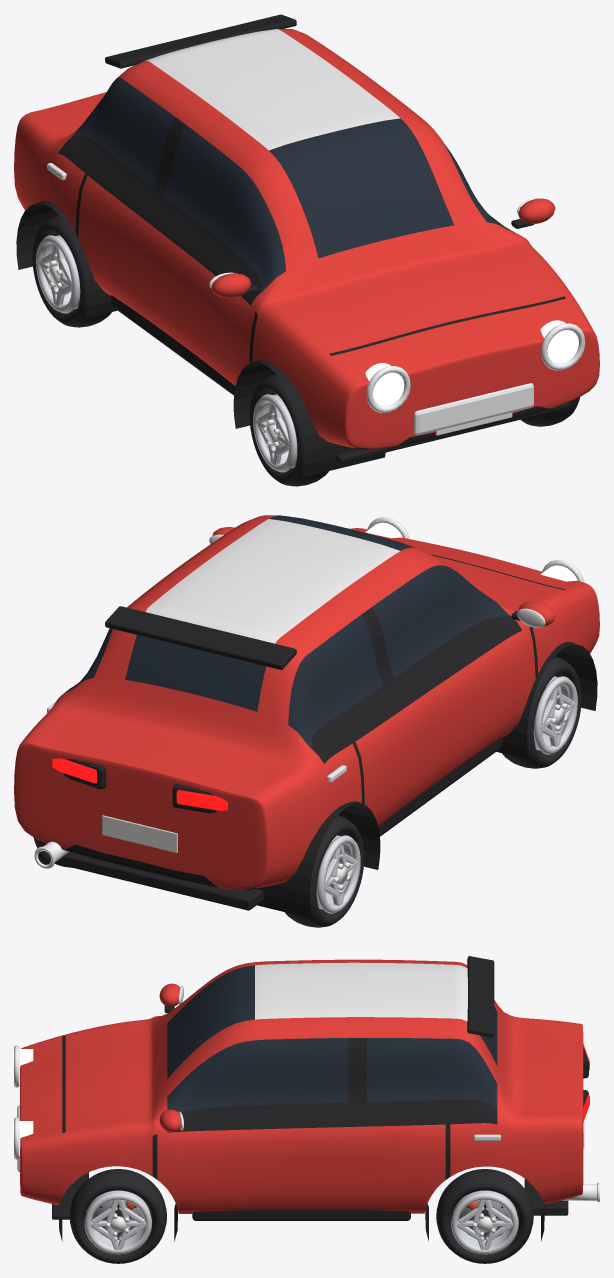
Rendered from pixie_mid.glb.
3 views of the same model, one above another, from view 1: azimuth 30°, elevation 25°; view 2: azimuth 150°, elevation 25°; view 3: azimuth 270°, elevation 25° (orthographic). The views are drawn at different scales.
Parts seen in each view (by area): view 1: body, wheel_rr, wheel_fr, wheel_fl; view 2: body, wheel_fr, wheel_rr; view 3: body, wheel_fl, wheel_rl.
Boxes of the visible parts, left/top/right/bottom form: body: left=14, top=14, right=599, bottom=477; wheel_rr: left=32, top=215, right=111, bottom=327; wheel_fr: left=249, top=374, right=328, bottom=486; wheel_fl: left=520, top=397, right=579, bottom=426; body: left=14, top=515, right=599, bottom=918; wheel_fr: left=502, top=656, right=581, bottom=768; wheel_rr: left=285, top=815, right=364, bottom=927; body: left=14, top=956, right=599, bottom=1241; wheel_fl: left=69, top=1169, right=166, bottom=1263; wheel_rl: left=436, top=1169, right=533, bottom=1263.
Size of the model in its own units: 1.98 by 1.46 by 3.48.
